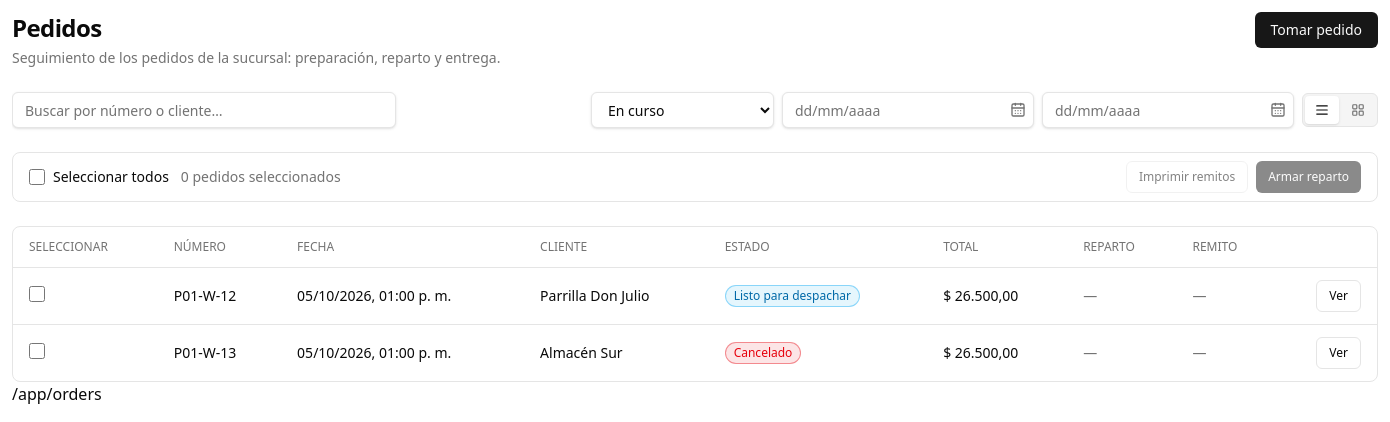
Scenario: fulfillment screens › lists the orders in progress and sends the selected ones to print or to a new run
Expected: the text "P01-W-12" is shown, [174,286,236,305]
What coordinates should you click on to do the following:
click the checkbox labelled "Seleccionar todos"
I would click on:
 (37, 177)
Its box is [29,169,45,185].
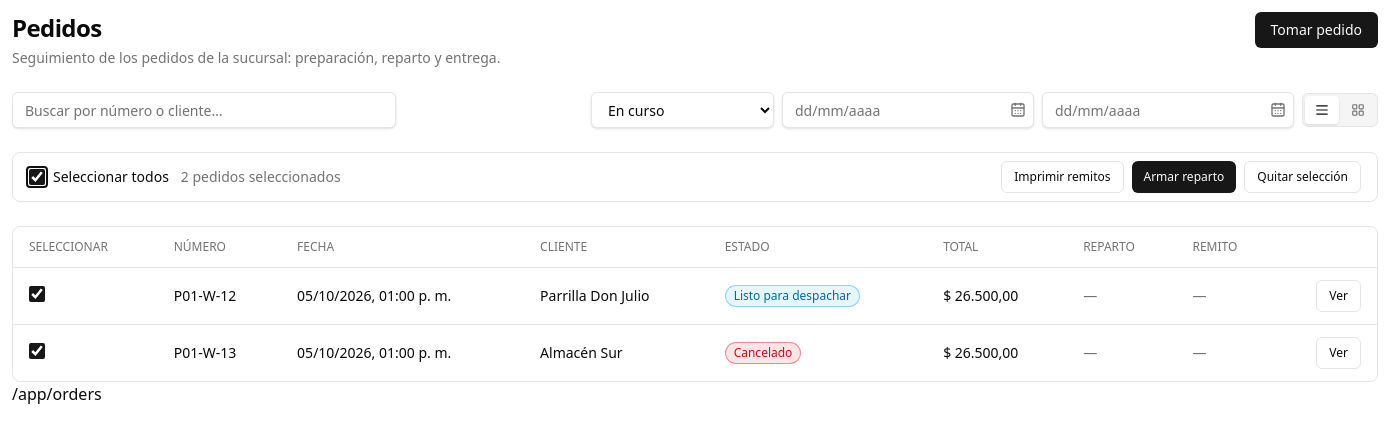
Expected: the text "2 pedidos seleccionados" is shown, [181,167,341,187]
What coordinates should you click on to do the following:
click the button "Imprimir remitos"
I would click on:
 (1062, 177)
Its box is [1001,161,1124,193].
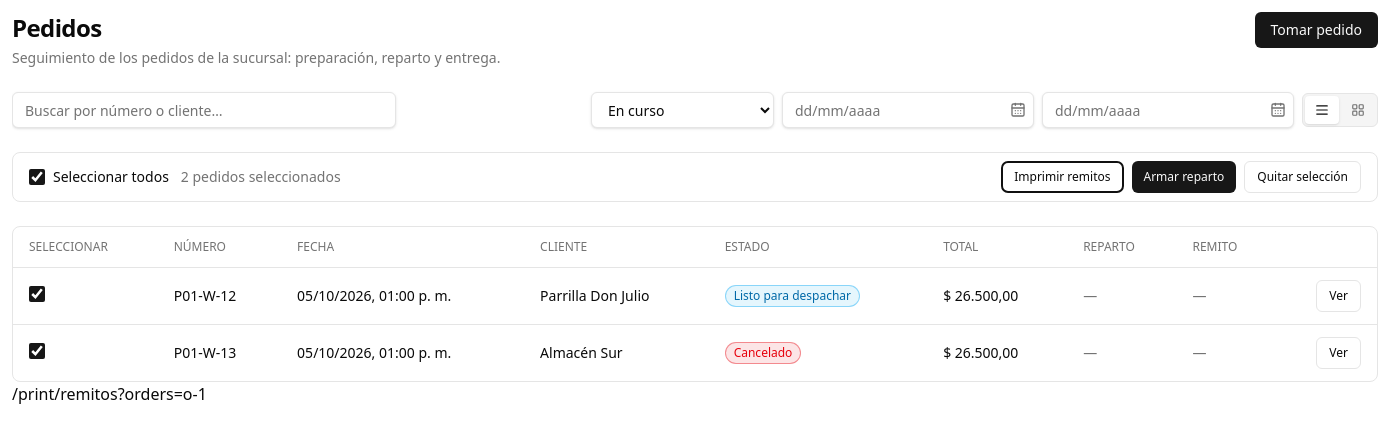
Expected: the text with test id "location" reads "/print/remitos?orders=o-1", [12,383,207,405]
